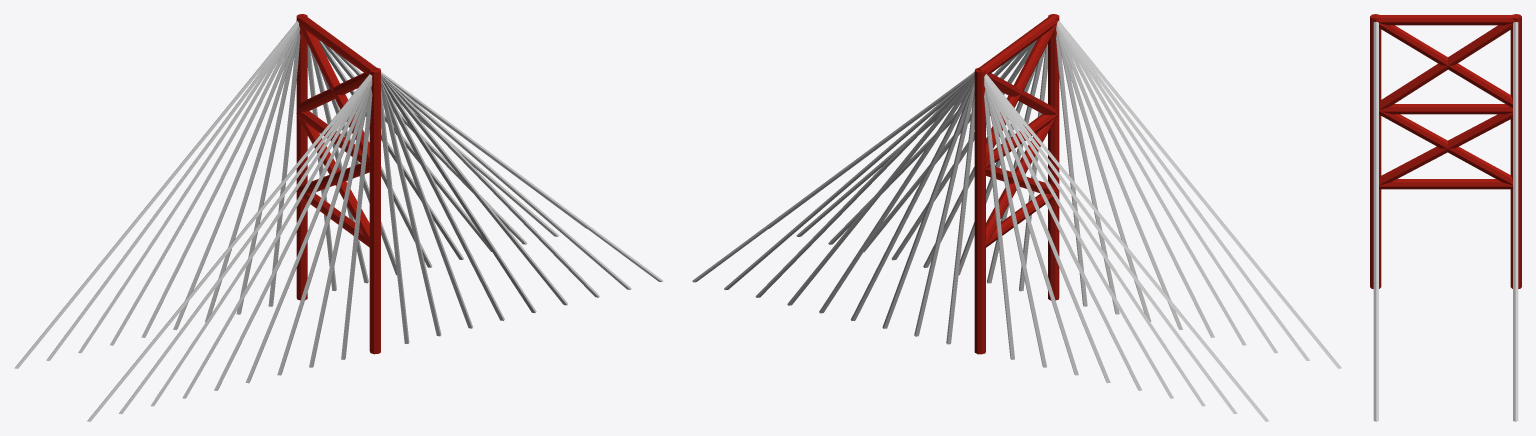
The model's file is onepointsuspensionbridge.obj.
3 renders of one model, left to right at view 1: azimuth 30°, elevation 25°; view 2: azimuth 150°, elevation 25°; view 3: azimuth 270°, elevation 25°, orthographic. The views are drawn at different scales.
Parts seen in each view (by area): view 1: Cylinder; view 2: Cylinder; view 3: Cylinder.
Part boxes in pixels (x1,y1,x2,y2): Cylinder: (14, 14, 663, 421); Cylinder: (692, 14, 1341, 421); Cylinder: (1370, 14, 1521, 421).
Bounding box in the file's own units: 18.19 × 8.53 × 4.32.
